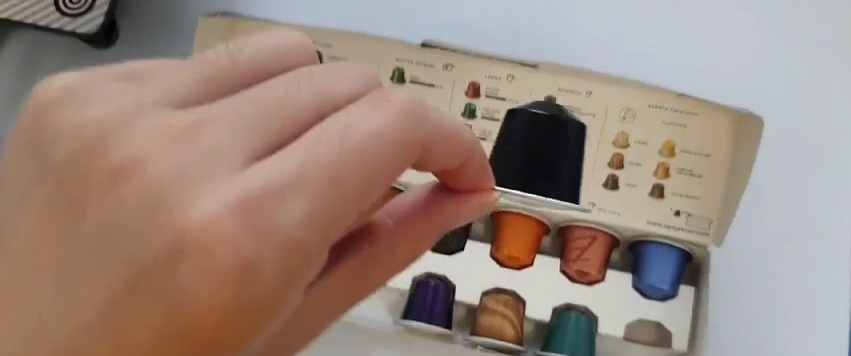capsule_10: (482, 101, 594, 216)
